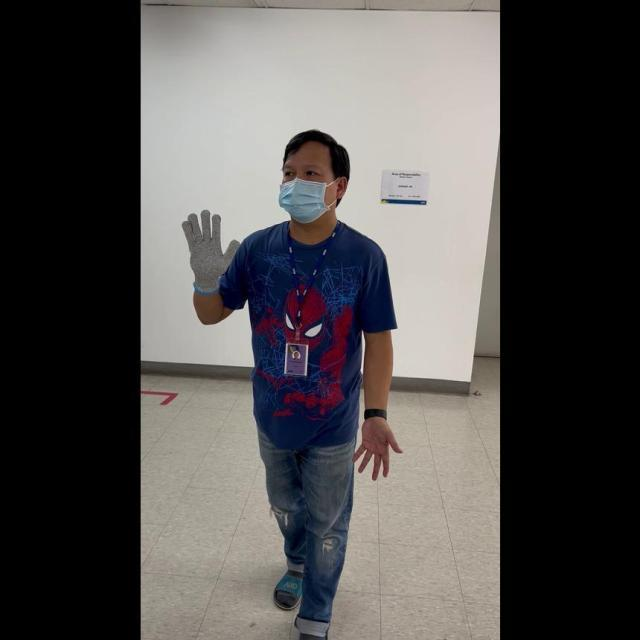bare_hand: (352, 414, 400, 481)
gloved_hand: (180, 204, 239, 295)
